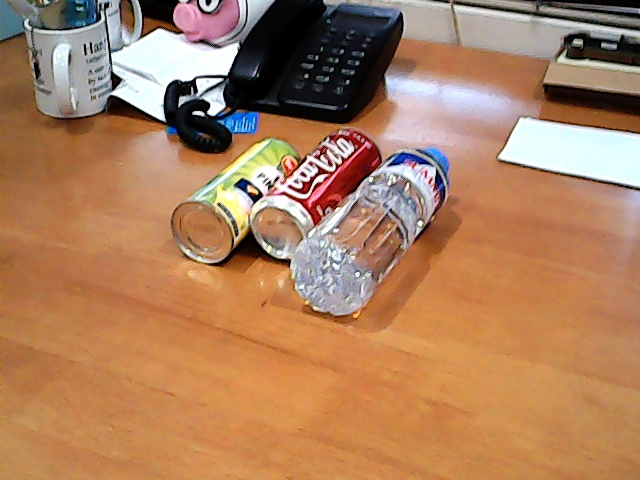Cola: (250, 112, 385, 263)
Pine Juice: (165, 120, 292, 260)
Summit Water: (292, 155, 452, 311)
